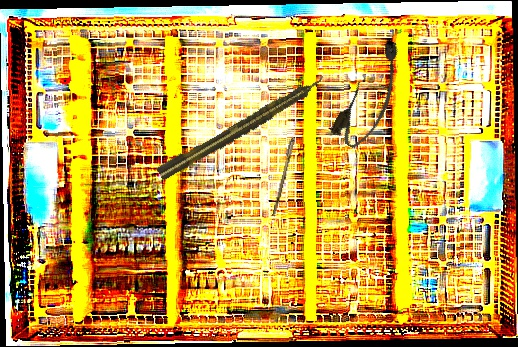Cannula: (327, 36, 417, 153)
Handpiece: (155, 71, 329, 183)
Surgical Spoon: (272, 111, 301, 218)
